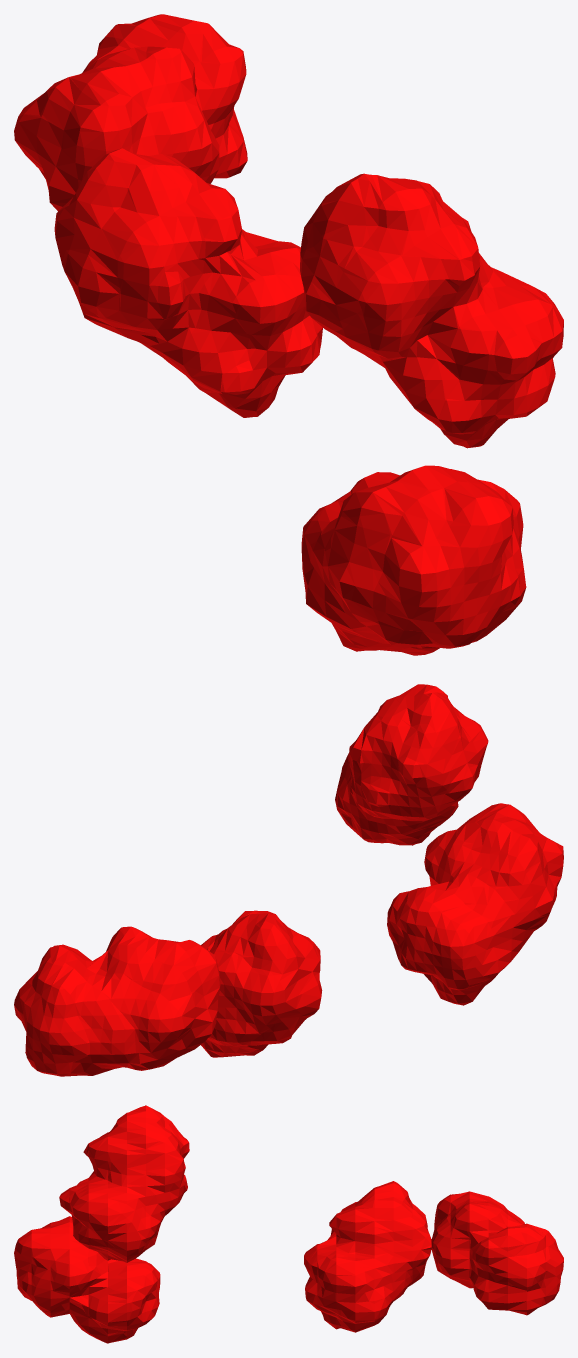
Rendered from ybiV_coarse.dae.
3 renders of one model, top to bottom at view 1: azimuth 30°, elevation 25°; view 2: azimuth 150°, elevation 25°; view 3: azimuth 270°, elevation 25°, orthographic. The views are drawn at different scales.
Parts seen in each view (by area): view 1: ybiV; view 2: ybiV; view 3: ybiV.
Part boxes in pixels (x1,y1,x2,y2): ybiV: (14,14,563,655); ybiV: (14,684,563,1076); ybiV: (14,1105,563,1343).
Size of the model in its own units: 78.91 by 105 by 223.
